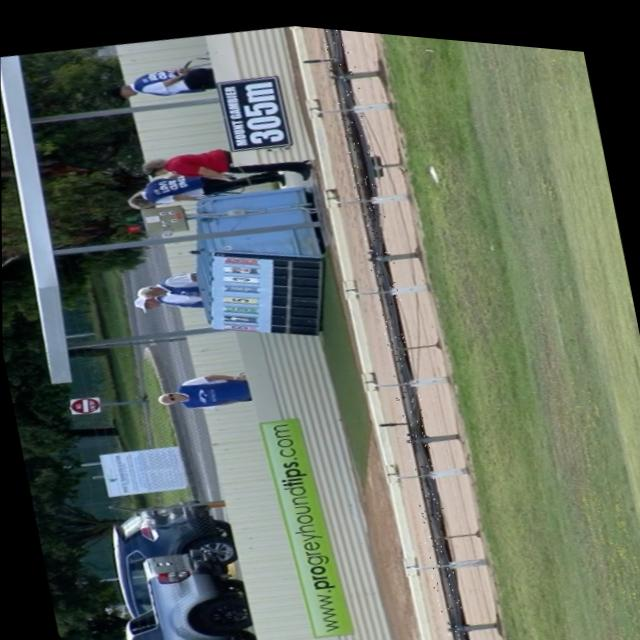rail: (323, 23, 470, 640)
